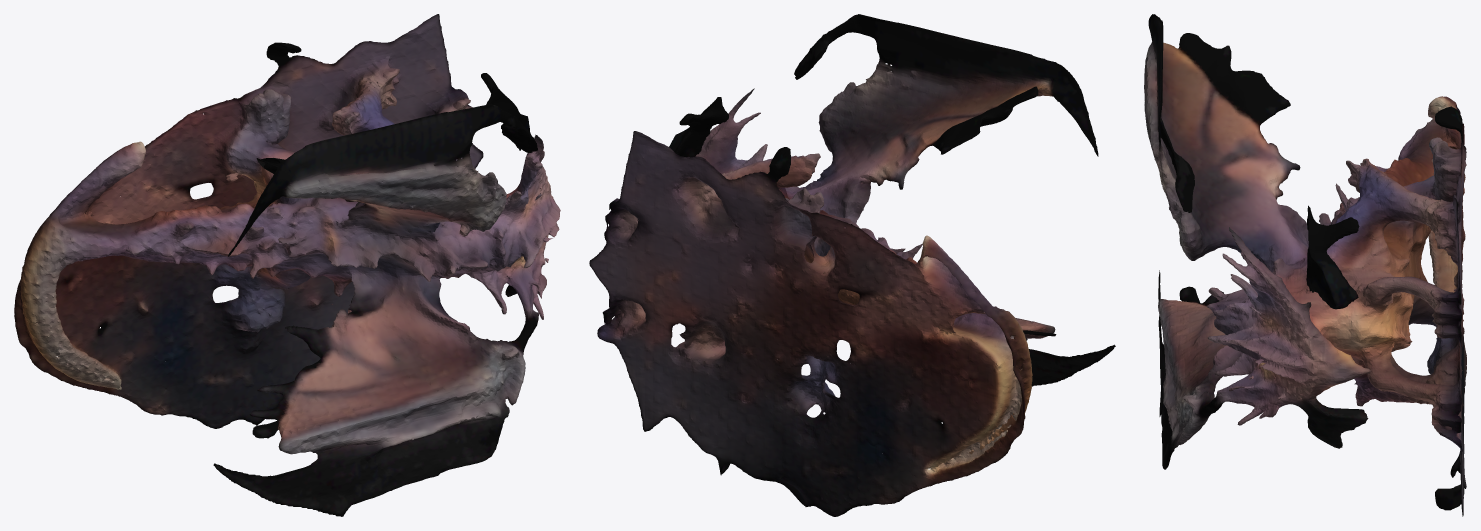
File: ashfang-initial.glb
The picture shows the model from 3 angles, left to right: view 1: azimuth 30°, elevation 25°; view 2: azimuth 150°, elevation 25°; view 3: azimuth 270°, elevation 25°; orthographic projection. The views are drawn at different scales.
Visible parts, largest first — view 1: geometry_0; view 2: geometry_0; view 3: geometry_0.
Boxes of the visible parts, x1,y1,x2,y2 form: geometry_0: [14, 14, 560, 516]; geometry_0: [589, 14, 1115, 516]; geometry_0: [1144, 14, 1466, 516].
Bounding box in the file's own units: 0.7361 × 0.6118 × 0.4354.
